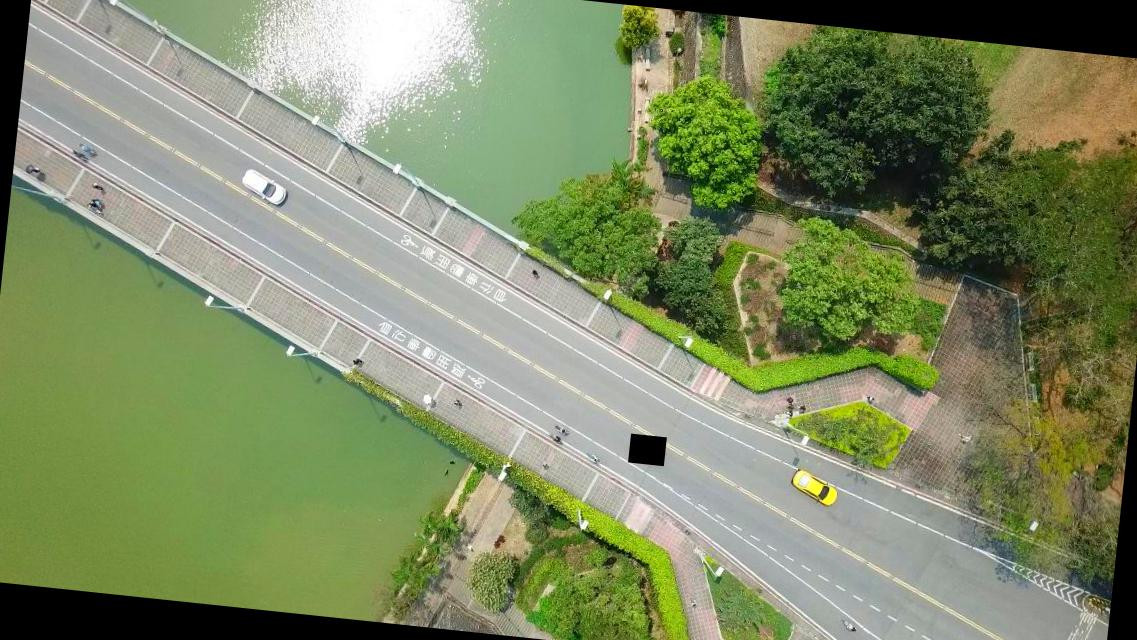vehicle: (789, 466, 840, 507), (238, 168, 290, 206)
